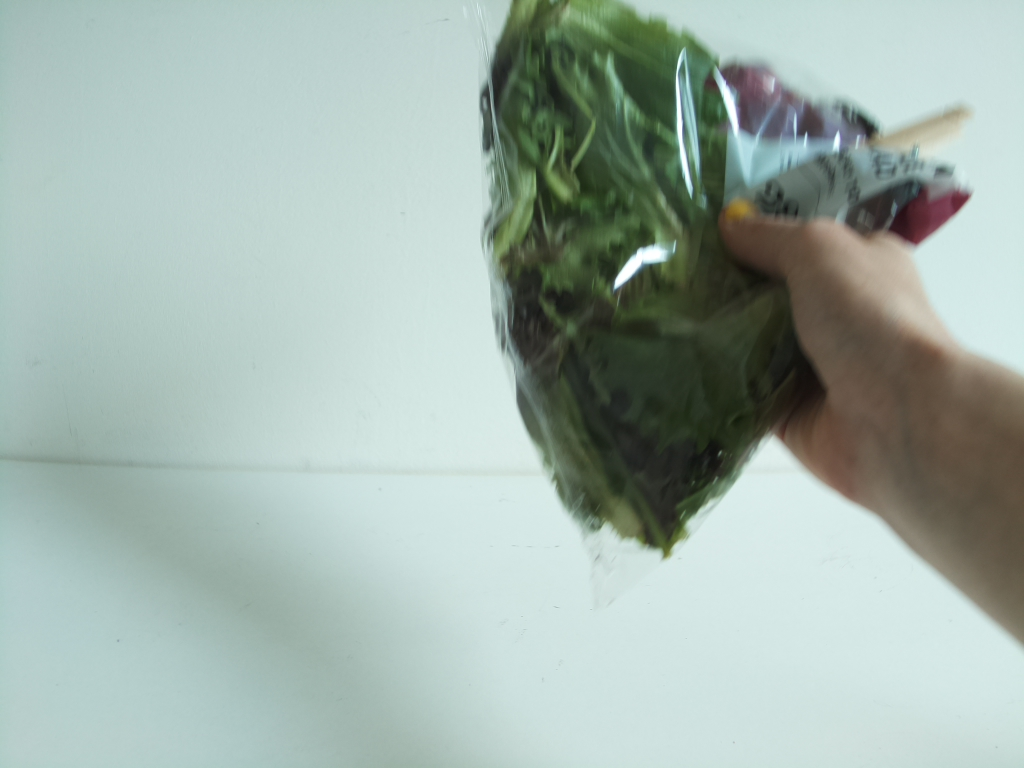salad: (480, 1, 966, 554)
